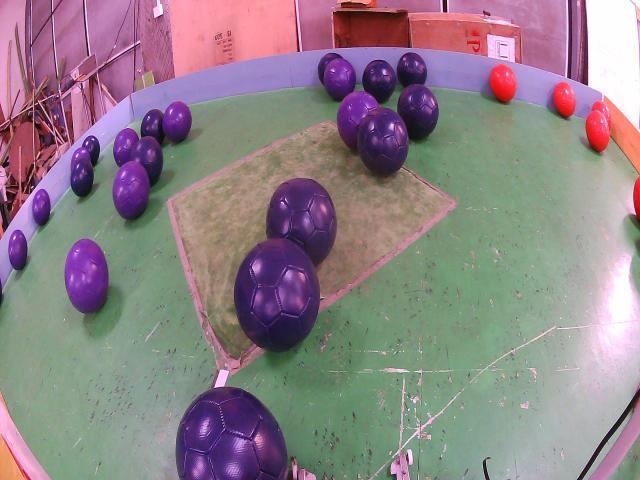jambhalya: (65, 238, 109, 313), (336, 90, 379, 150), (112, 162, 150, 220), (324, 58, 356, 100), (162, 102, 191, 142), (114, 128, 139, 167), (9, 230, 28, 270), (32, 188, 51, 225), (70, 147, 91, 172)
kaalyya: (175, 387, 288, 480), (234, 238, 320, 352), (265, 178, 338, 267), (356, 107, 409, 175), (398, 83, 439, 138), (130, 137, 164, 184), (362, 60, 396, 103), (396, 52, 428, 87), (70, 158, 94, 197), (140, 108, 165, 145), (318, 52, 342, 83), (82, 135, 100, 167)
